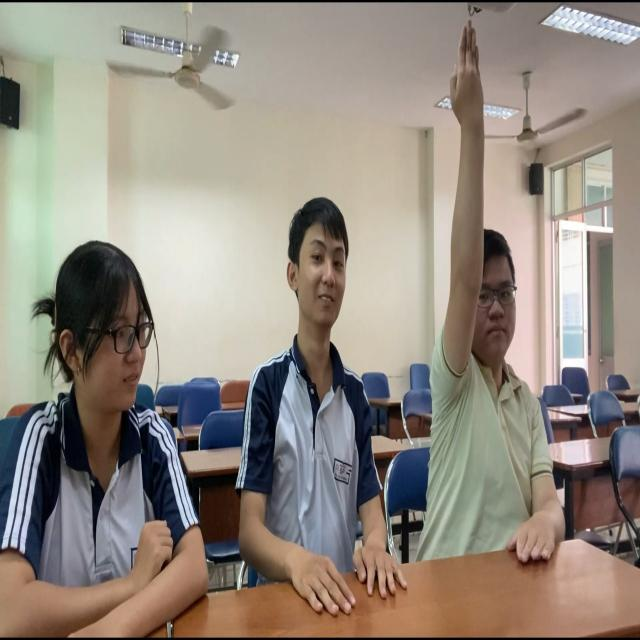raise_hand: (427, 12, 567, 584)
